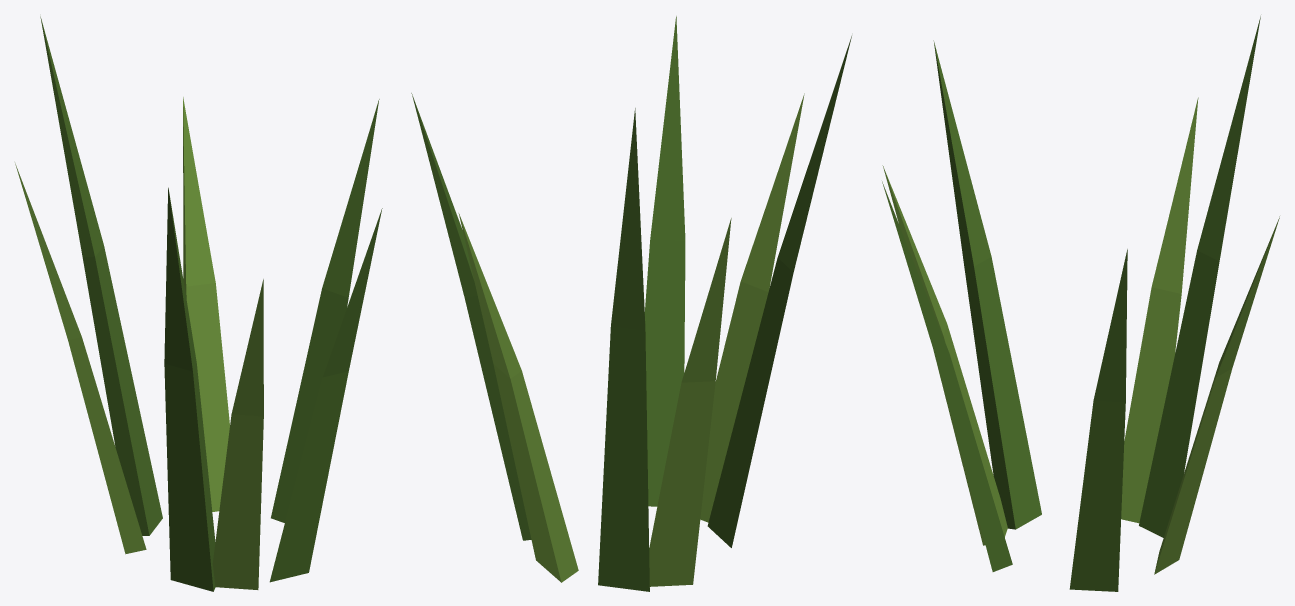
Rendered from grass_a.glb.
3 renders of one model, left to right at view 1: azimuth 30°, elevation 25°; view 2: azimuth 150°, elevation 25°; view 3: azimuth 270°, elevation 25°, orthographic. The views are drawn at different scales.
Parts seen in each view (by area): view 1: grass_a; view 2: grass_a; view 3: grass_a.
Boxes of the visible parts, <box> form: grass_a: <box>15,16,382,591</box>; grass_a: <box>411,16,851,591</box>; grass_a: <box>882,16,1279,591</box>.
Bounding box in the file's own units: 0.3683 × 0.5269 × 0.3869.
